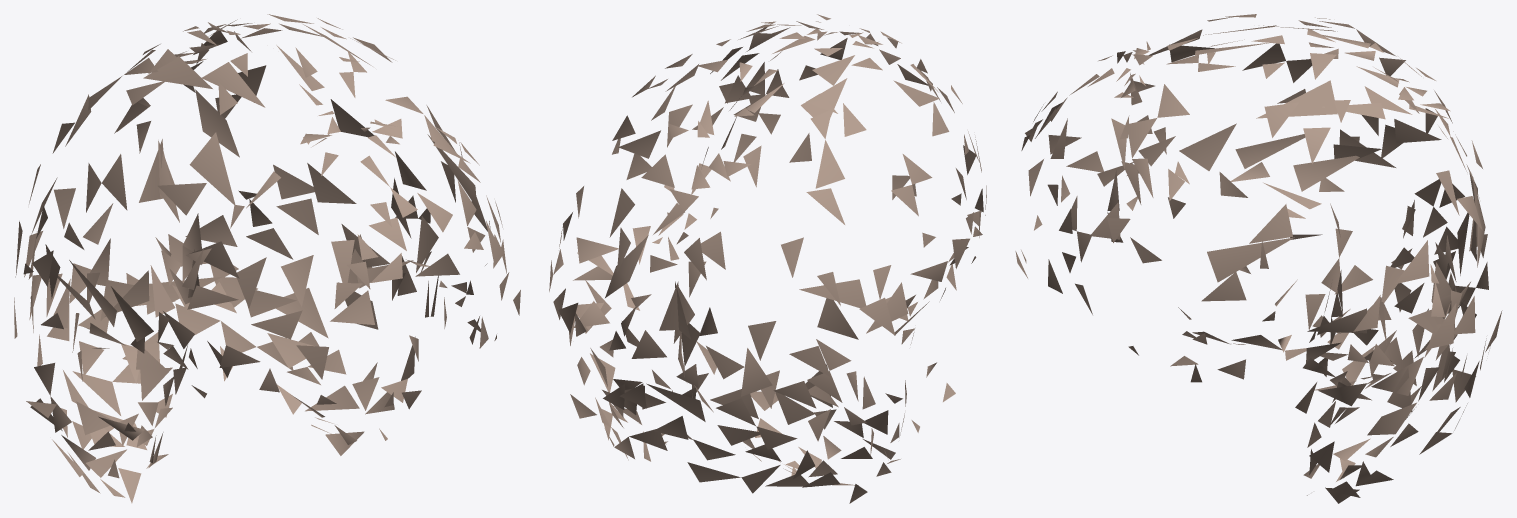
File: female_hair_09_lod2.glb
3 renders of one model, left to right at view 1: azimuth 30°, elevation 25°; view 2: azimuth 150°, elevation 25°; view 3: azimuth 270°, elevation 25°, orthographic. The views are drawn at different scales.
Visible parts, largest first — view 1: female-hair-09; view 2: female-hair-09; view 3: female-hair-09.
Boxes of the visible parts, x1,y1,x2,y2 form: female-hair-09: (14,14,520,503); female-hair-09: (549,14,986,503); female-hair-09: (1015,14,1502,503).
Size of the model in its own units: 0.201 by 0.2141 by 0.2223.
